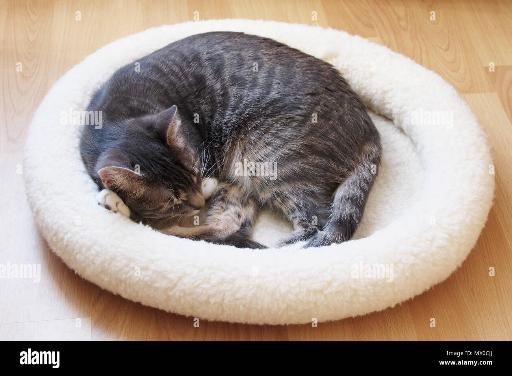cat_sleeping: (80, 32, 381, 249)
